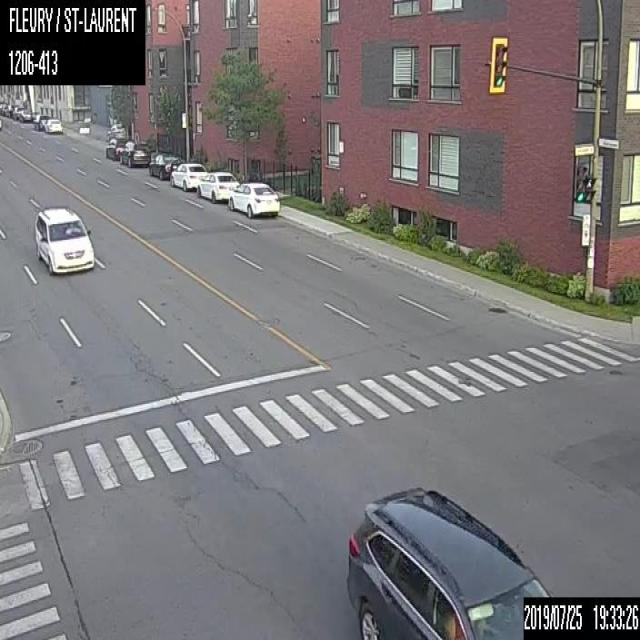vehicle: (344, 482, 554, 638), (32, 204, 94, 275), (227, 182, 280, 218), (196, 171, 238, 204), (169, 161, 206, 191), (148, 151, 181, 180), (119, 140, 150, 166), (105, 138, 126, 160), (44, 118, 62, 134), (33, 114, 47, 130), (19, 109, 32, 121)
